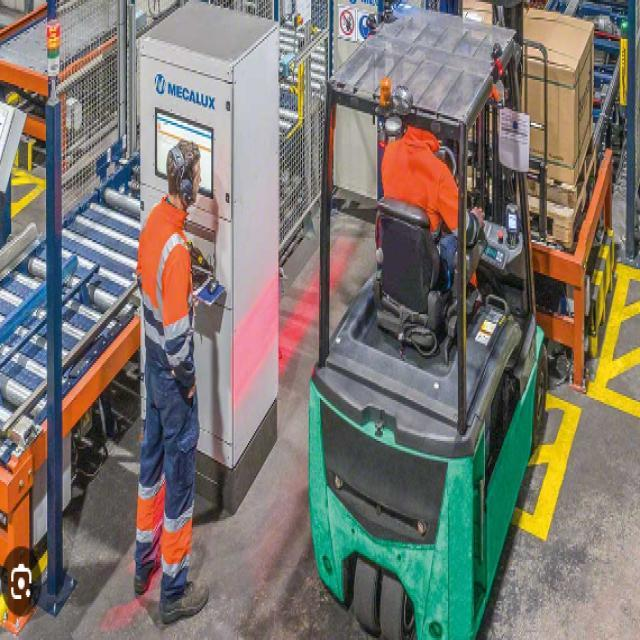boots: (129, 543, 213, 631)
vest: (375, 117, 483, 291), (132, 191, 197, 398)
